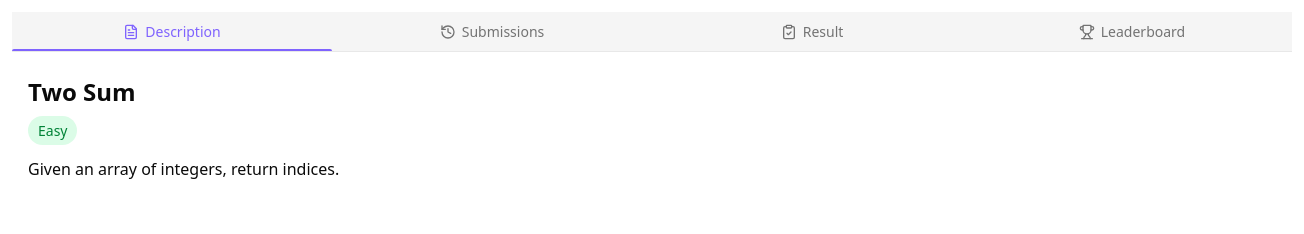
it: CodeDescArea — submissions tab › shows singular "attempt" for one submission
expect the element with test id "tabs-list" is shown: met, box x1=12 y1=12 x2=1292 y2=52
Click the tab "Submissions".
click(492, 32)  # box x1=332 y1=12 x2=652 y2=51
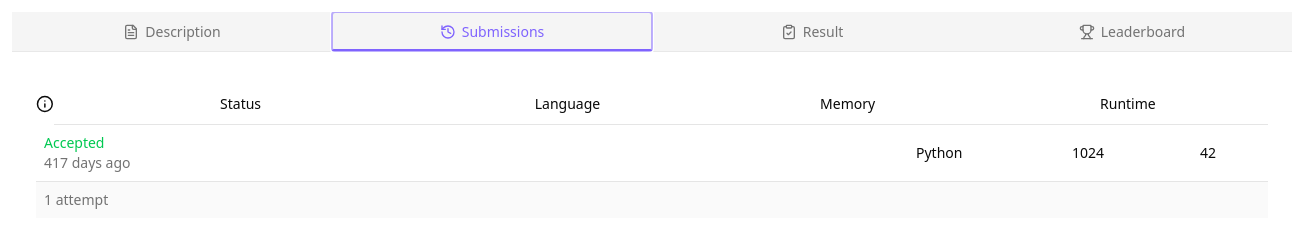
expect the text "1 attempt" is shown: met, box x1=36 y1=181 x2=1268 y2=218
